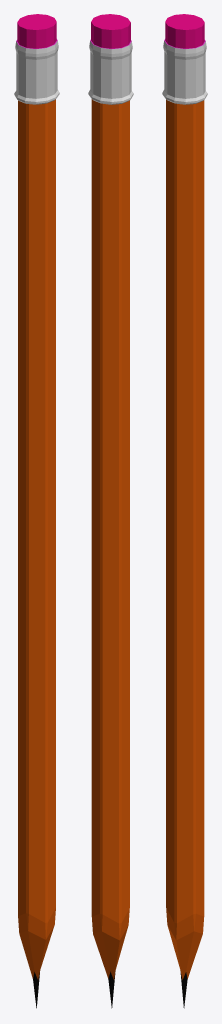
Rendered from pencil.gltf.
The picture shows the model from 3 angles, left to right: view 1: azimuth 30°, elevation 25°; view 2: azimuth 150°, elevation 25°; view 3: azimuth 330°, elevation 25°; orthographic projection.
Parts seen in each view (by area): view 1: pencil, Цилиндр; view 2: pencil, Цилиндр; view 3: pencil, Цилиндр.
Boxes of the visible parts, <box> form: pencil: <box>18,99,55,1008</box>; Цилиндр: <box>14,14,59,104</box>; pencil: <box>91,99,129,1008</box>; Цилиндр: <box>88,14,133,104</box>; pencil: <box>166,99,204,1008</box>; Цилиндр: <box>162,14,207,104</box>.
Bounding box in the file's own units: 0.1494 × 3.55 × 0.1388.
